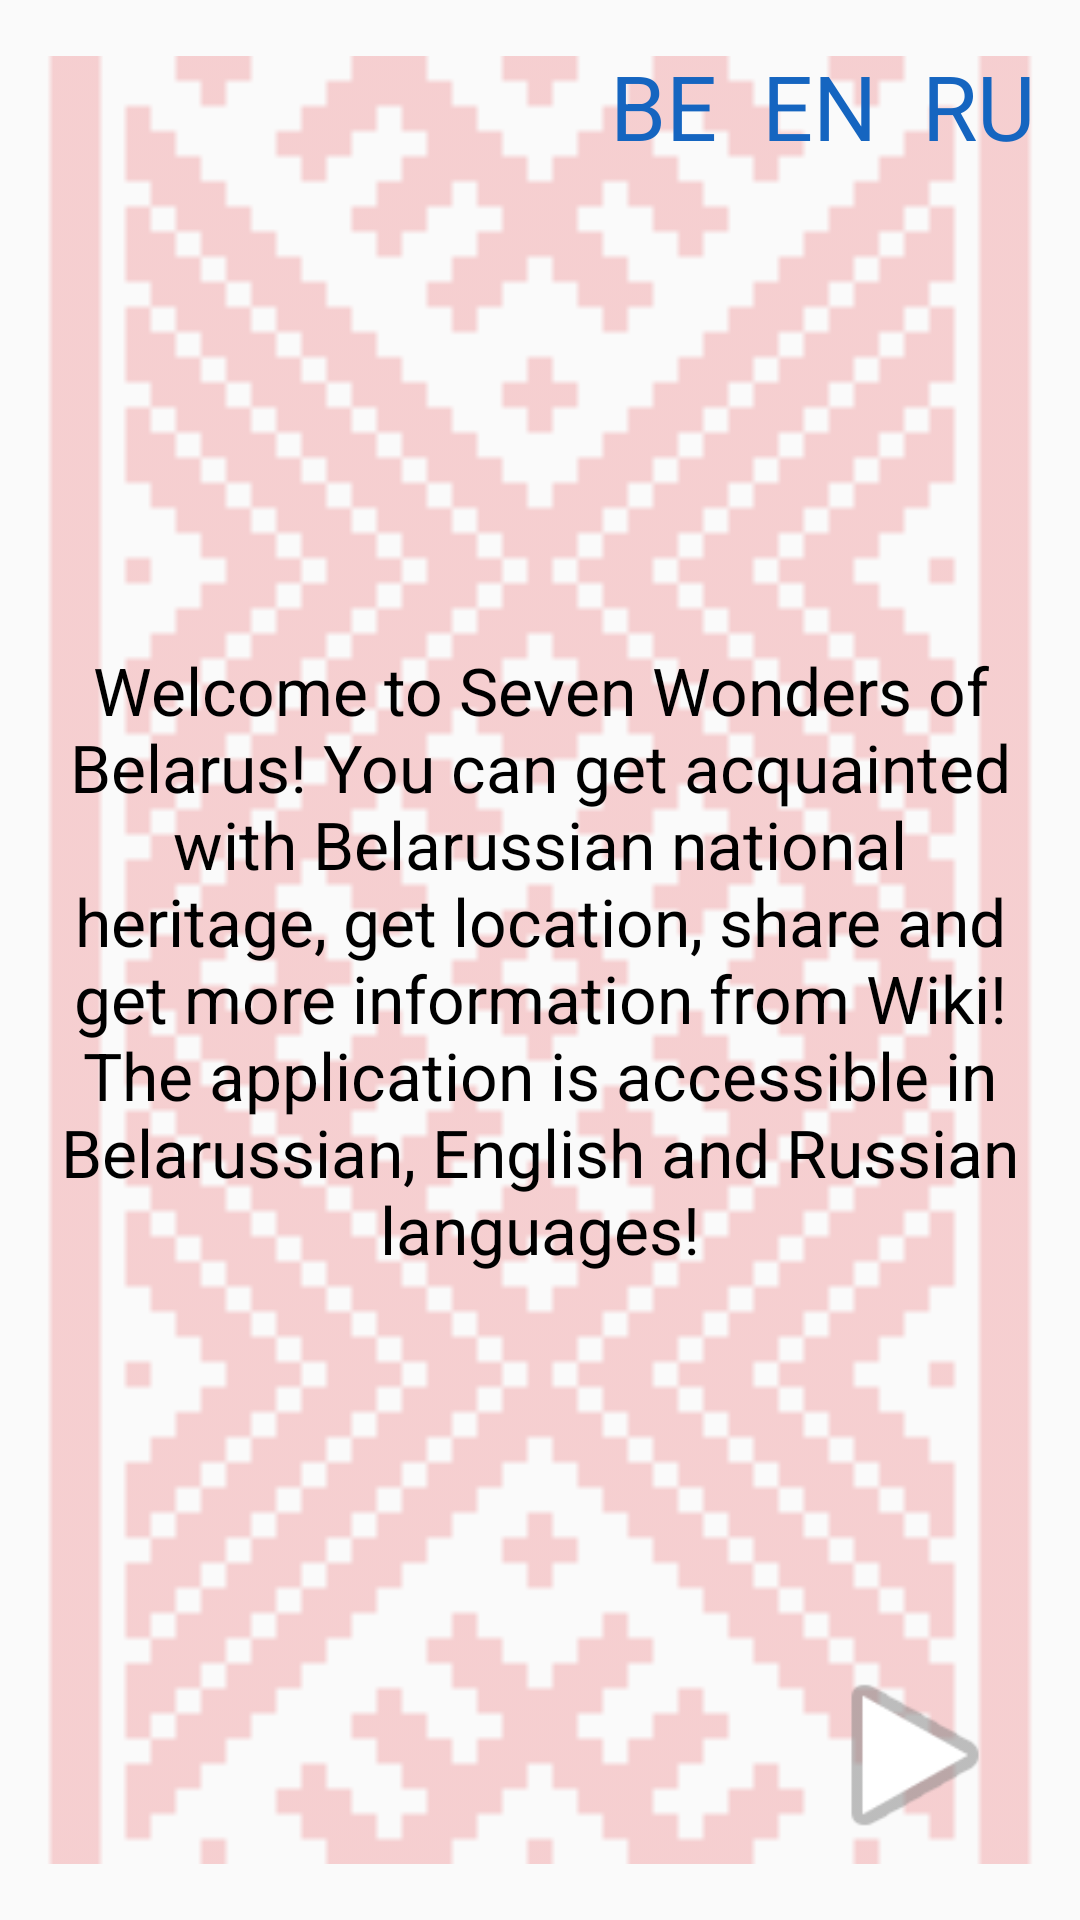

Where to tap for icons on this 1080px×1920px app screen, as (x=x, y=y):
play: (x=915, y=1755)
